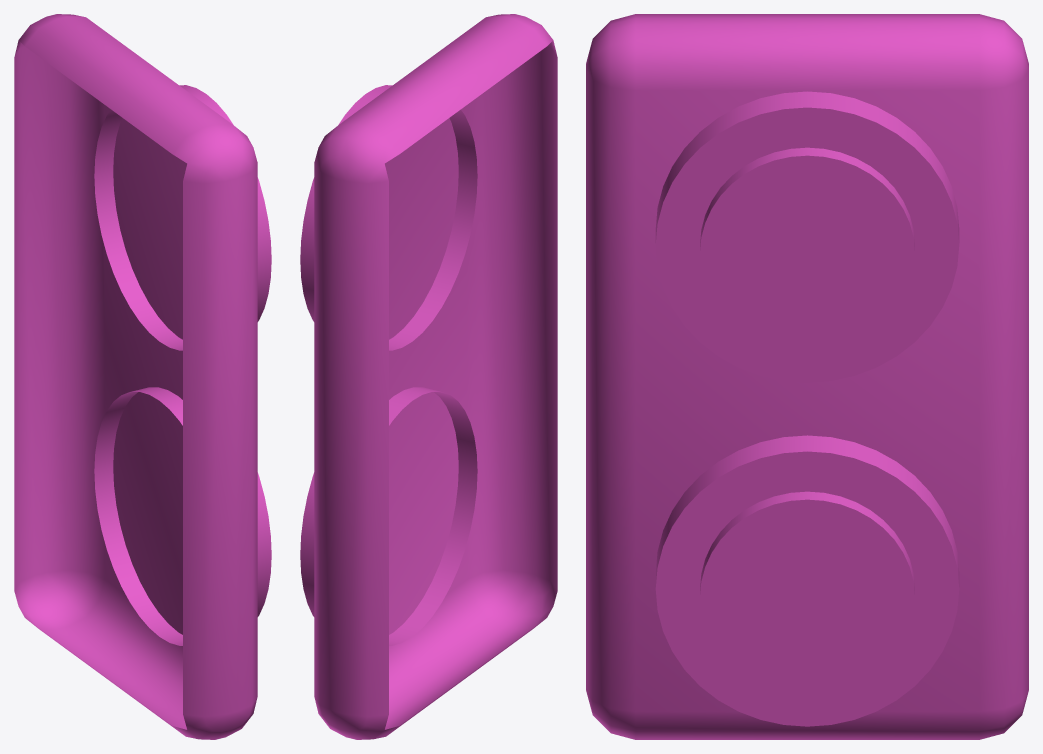
File: ax_right_01.obj
3 renders of one model, left to right at view 1: azimuth 30°, elevation 25°; view 2: azimuth 150°, elevation 25°; view 3: azimuth 270°, elevation 25°, orthographic. The views are drawn at different scales.
Parts seen in each view (by area): view 1: AX1_Right_01; view 2: AX1_Right_01; view 3: AX1_Right_01.
Part boxes in pixels (box(x1,y1,x2,y2)): AX1_Right_01: box(14, 14, 271, 739); AX1_Right_01: box(300, 14, 557, 739); AX1_Right_01: box(586, 14, 1028, 739).
Size of the model in its own units: 25.95 by 124 by 70.
